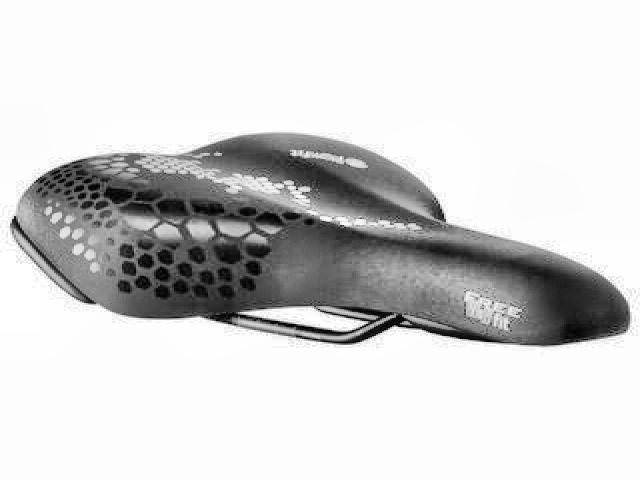saddle: (10, 126, 632, 349)
